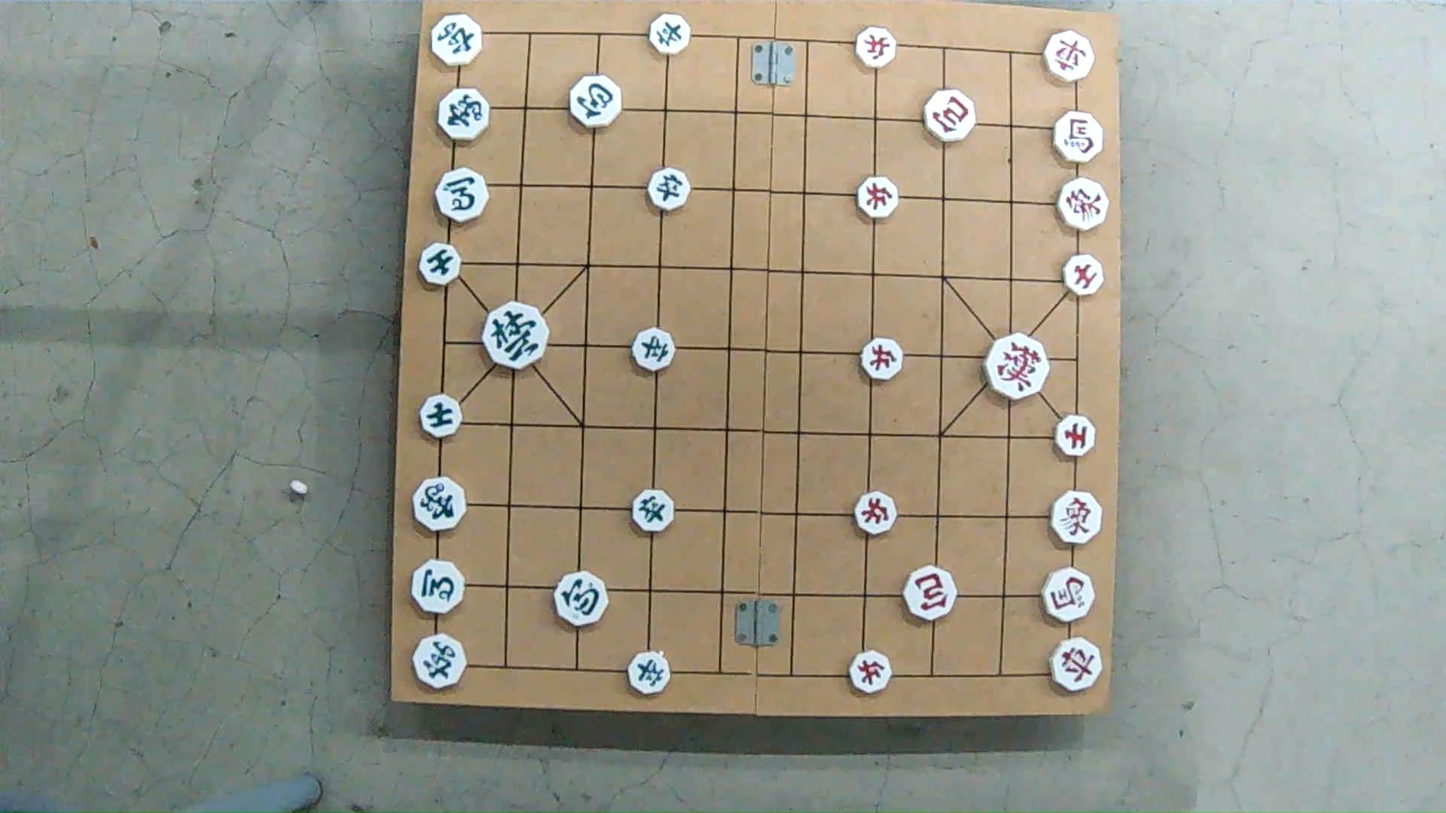cha_green: (411, 635, 465, 687), (432, 14, 484, 64)
cha_red: (1048, 638, 1103, 690), (1043, 31, 1094, 82)
jol_green: (646, 170, 691, 211), (631, 490, 675, 531), (631, 332, 677, 370), (626, 654, 670, 693), (646, 14, 689, 53)
jol_red: (860, 340, 904, 381), (855, 492, 899, 533), (849, 653, 892, 694), (856, 178, 900, 218), (855, 29, 898, 69)
ma_green: (410, 559, 463, 614), (435, 171, 489, 222)
ma_red: (1042, 568, 1097, 623), (1051, 114, 1104, 163)
po_green: (568, 73, 621, 128), (558, 571, 609, 628)
po_red: (901, 567, 954, 619), (924, 93, 977, 142)
sa_green: (418, 244, 462, 285), (418, 396, 462, 437)
sa_red: (1056, 413, 1096, 458), (1063, 254, 1106, 294)
sang_green: (410, 478, 469, 530), (437, 85, 491, 140)
sang_red: (1048, 495, 1103, 546), (1059, 176, 1108, 231)
wang_green: (483, 300, 551, 371)
wang_red: (985, 336, 1048, 398)
